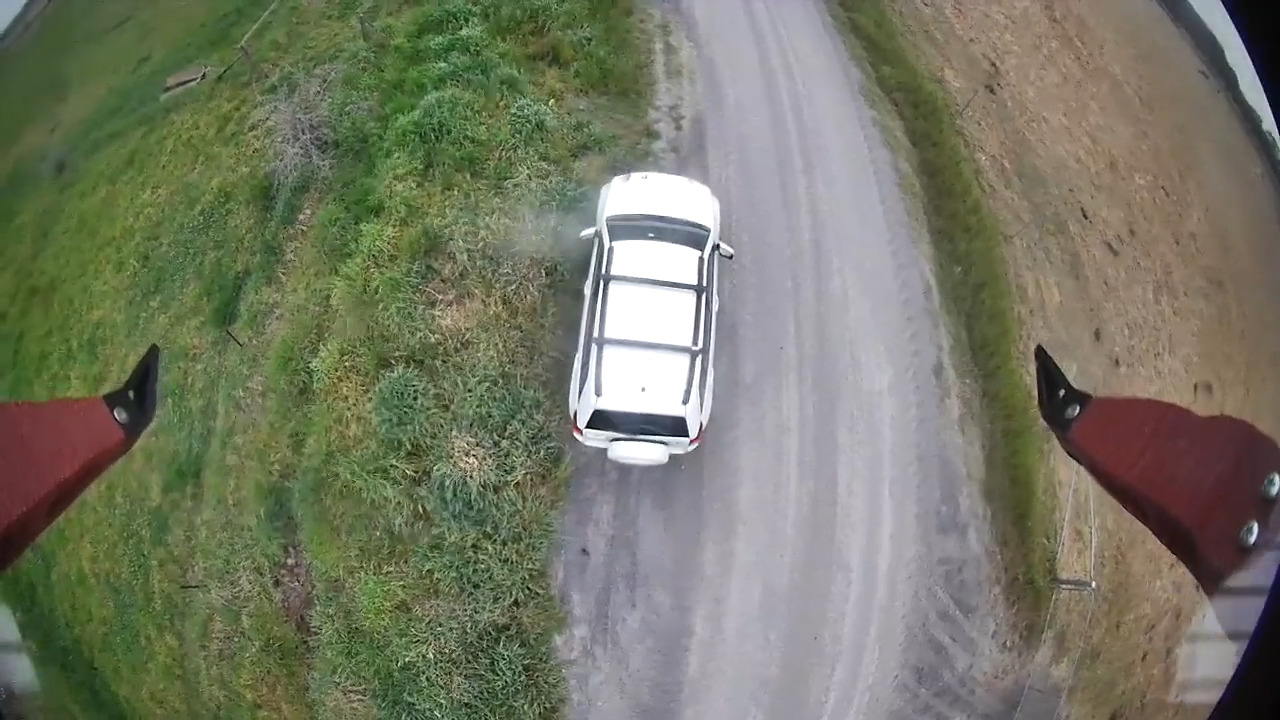Car: (568, 172, 734, 466)
